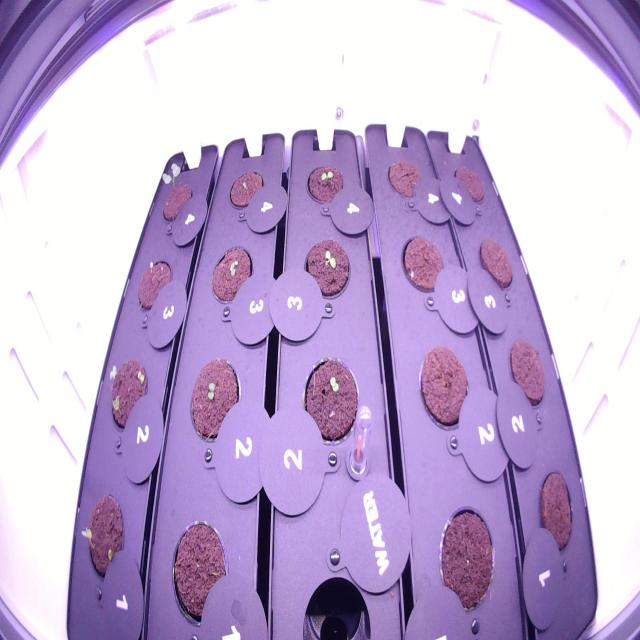germination: (297, 350, 363, 452), (182, 350, 245, 456), (74, 482, 130, 591), (104, 351, 154, 444), (298, 232, 354, 307), (202, 241, 258, 315), (152, 157, 198, 233), (134, 252, 177, 318), (303, 158, 349, 214)
pod: (166, 512, 239, 632), (432, 499, 502, 617), (413, 340, 477, 440), (534, 462, 580, 566), (396, 226, 452, 307), (503, 332, 551, 419), (473, 233, 520, 303), (447, 155, 494, 217), (382, 153, 428, 209), (223, 165, 266, 219)
